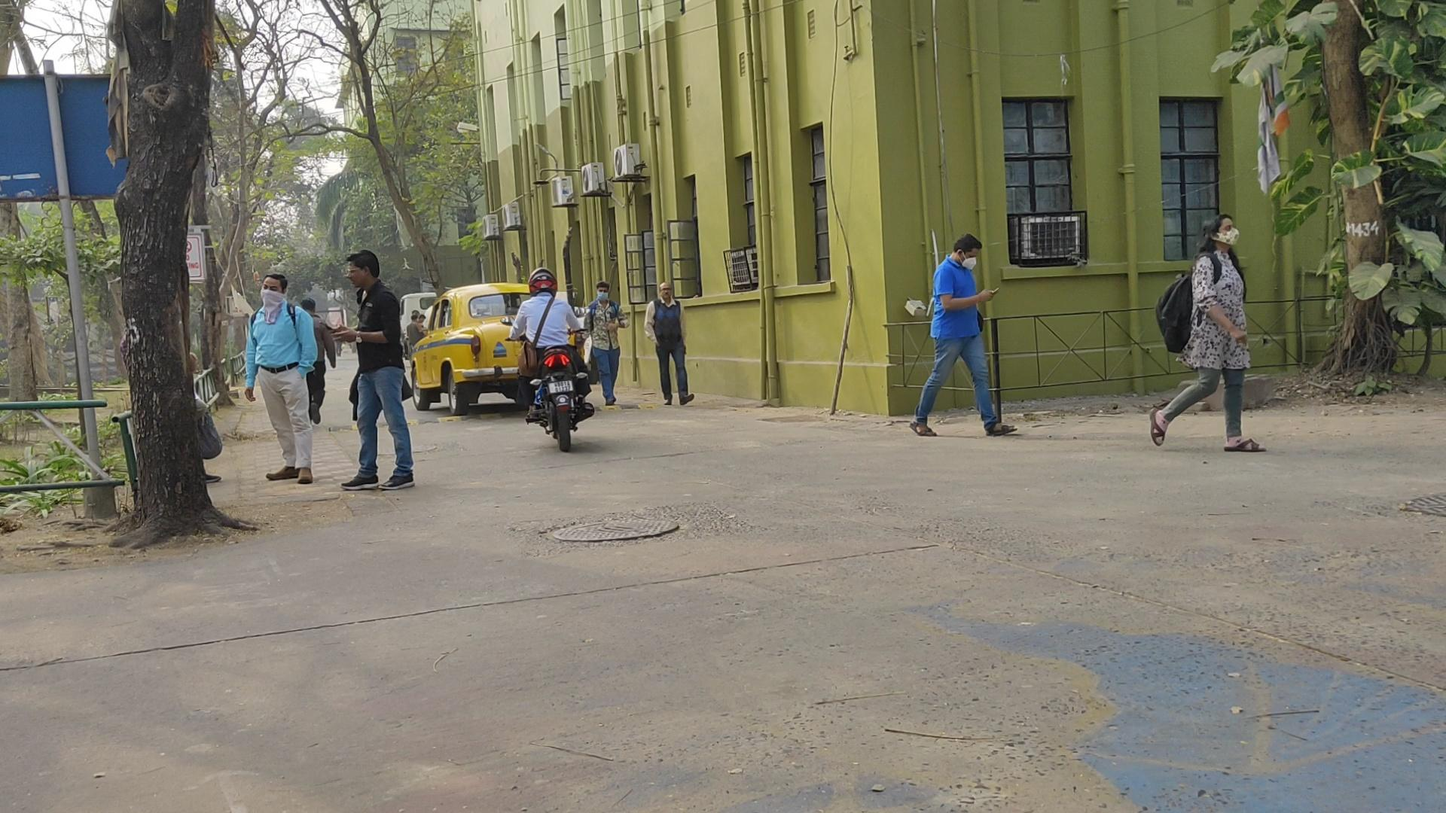bike: (500, 265, 596, 453)
car: (408, 282, 588, 416)
